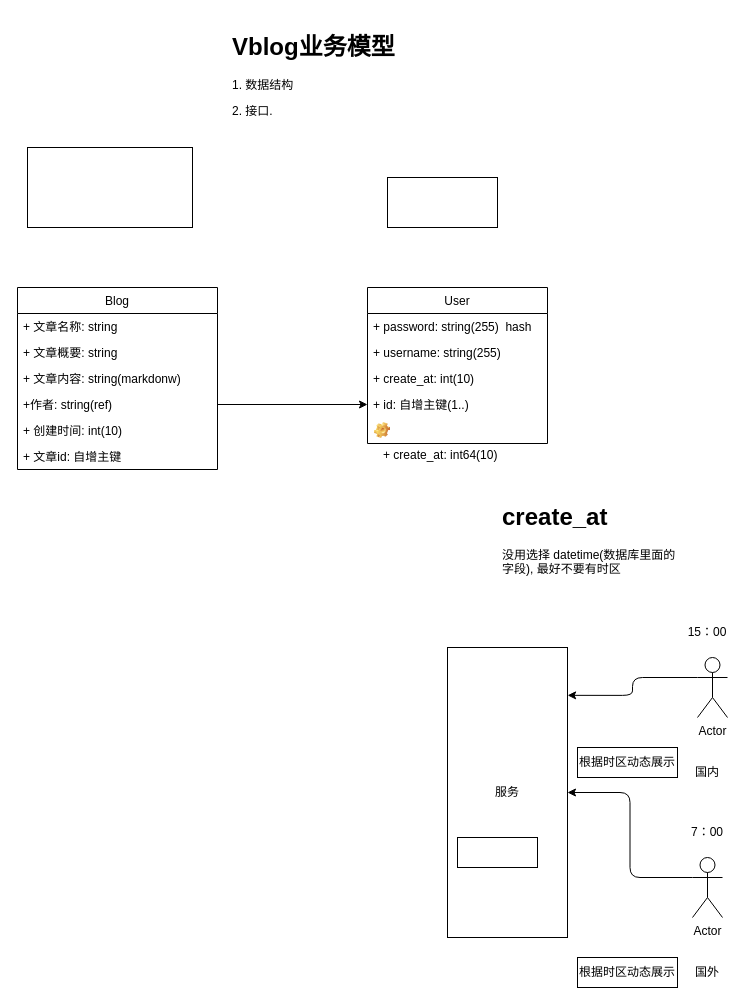
Some shapes in this 755 by 1005 pixel diagram are drawn without their labels. The centre of each missing label's shape, as x and y in pixels:
CheckPassword(密码): the point at 457,430
ts: the point at 497,852
«BlogService» CreateBlog() QueryBlog() UpdateBlog(): the point at 109,187
«UserService» CreateUser() GetUser(): the point at 442,202
